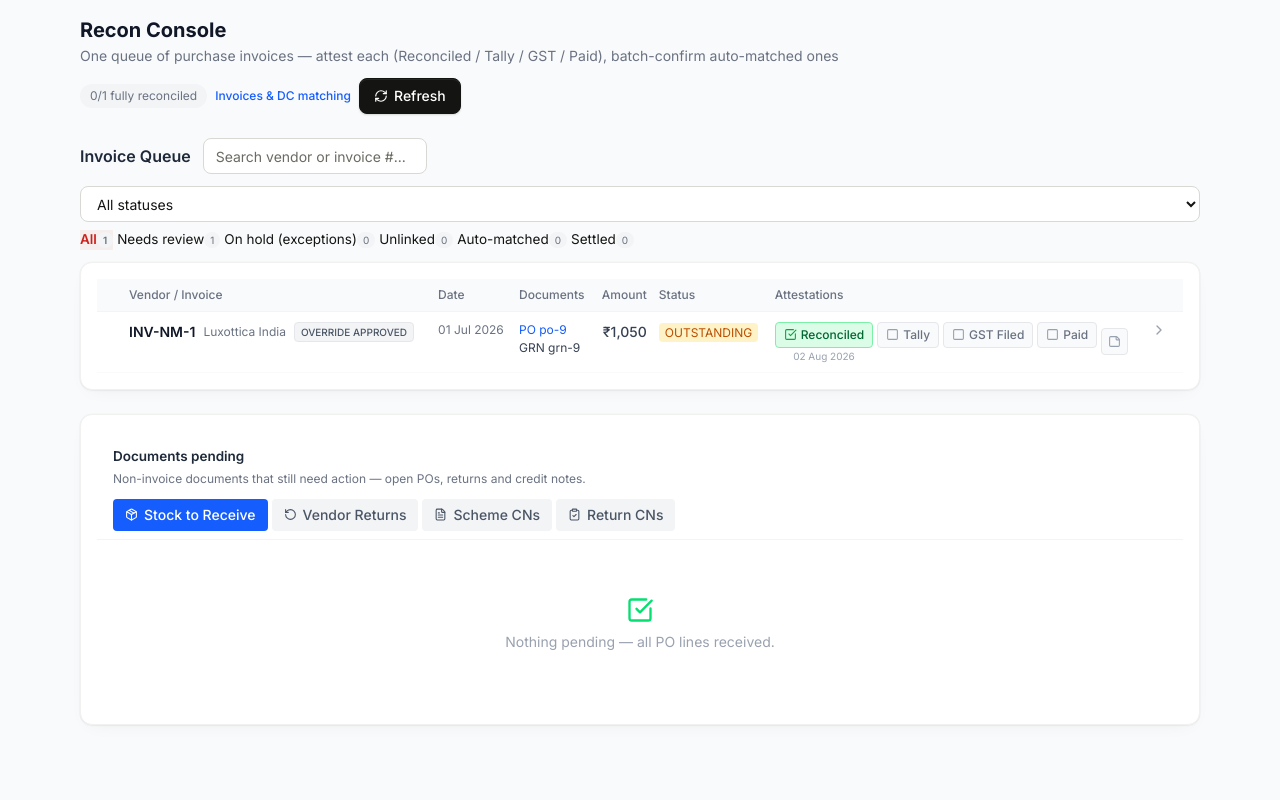
Test: audit stamps name a person › the last-updated line names the accountant
The image size is (1280, 800).
Click the button named "Expand": (1159, 330) [1151,322,1167,338]
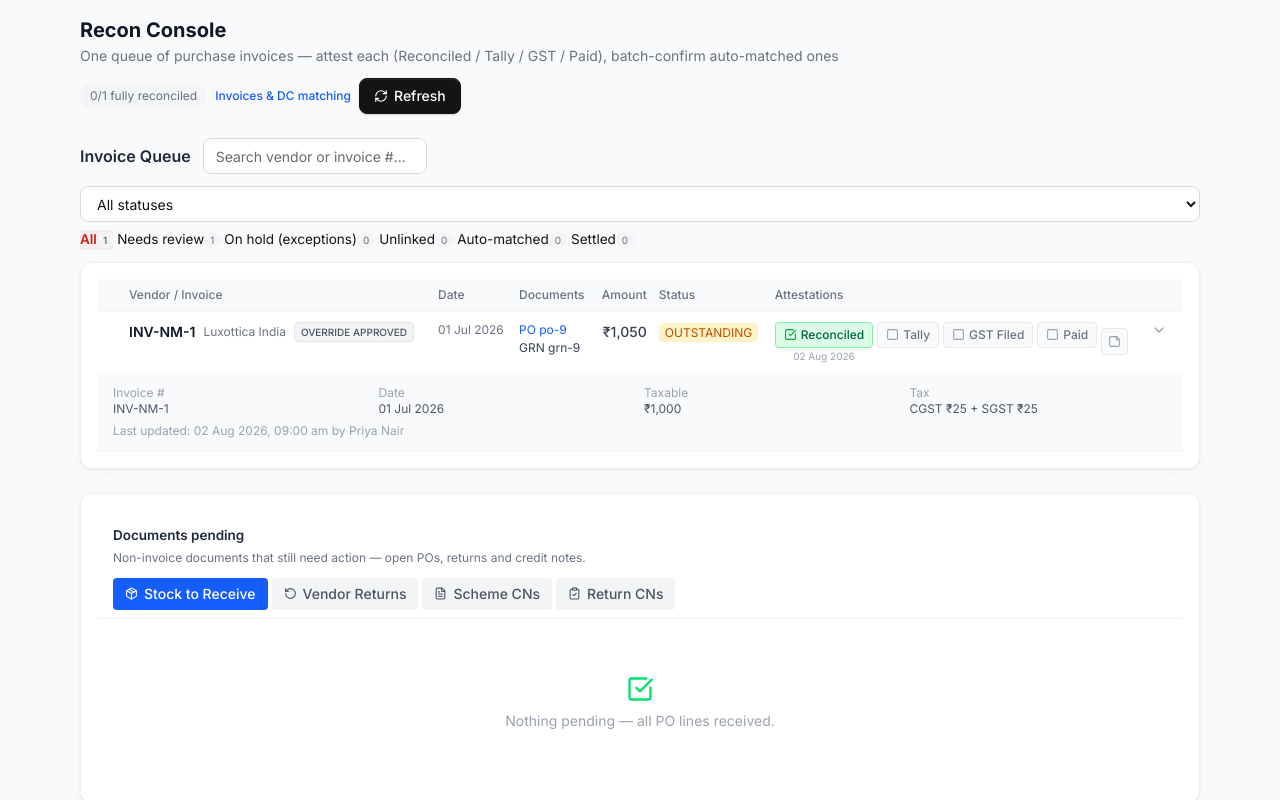
Now the text "Last updated: 02 Aug 2026, 09:00 am by Priya Nair" is shown, box [113,423,404,438]
